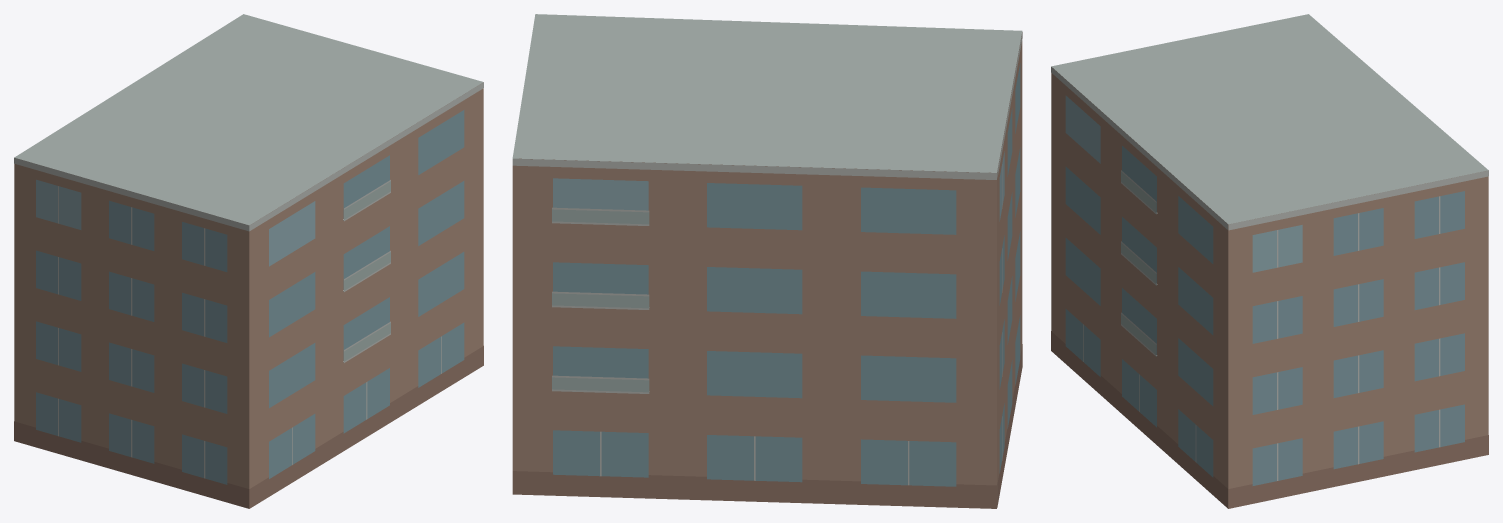
File: survey-upis-32745151.glb
3 views of the same model, side by side, from view 1: azimuth 30°, elevation 25°; view 2: azimuth 150°, elevation 25°; view 3: azimuth 270°, elevation 25° (orthographic). The views are drawn at different scales.
Parts seen in each view (by area): view 1: survey-upis-32745151.tmp; view 2: survey-upis-32745151.tmp; view 3: survey-upis-32745151.tmp.
Boxes of the visible parts, bbox=[...] form: survey-upis-32745151.tmp: bbox=[14, 14, 483, 508]; survey-upis-32745151.tmp: bbox=[512, 14, 1022, 508]; survey-upis-32745151.tmp: bbox=[1051, 14, 1488, 508].
Size of the model in its own units: 18.09 by 11.4 by 15.9.
